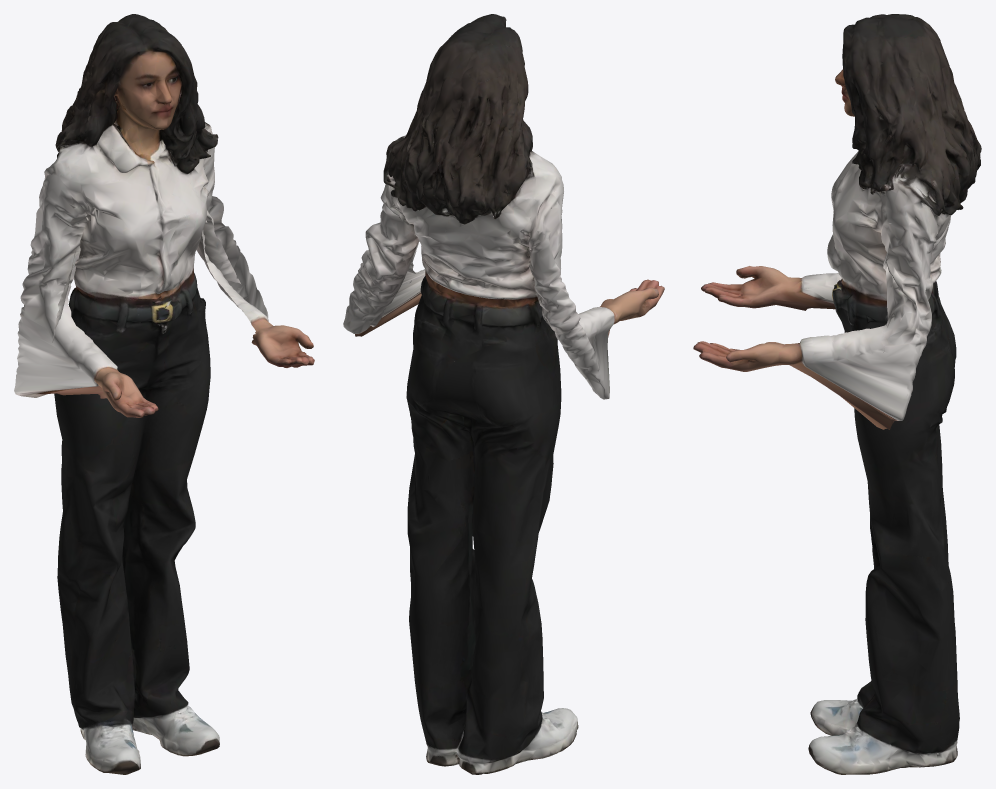
File: recep.glb
The picture shows the model from 3 angles, left to right: view 1: azimuth 30°, elevation 25°; view 2: azimuth 150°, elevation 25°; view 3: azimuth 270°, elevation 25°; orthographic projection. The views are drawn at different scales.
Size of the model in its own units: 0.6155 by 1.63 by 0.5811.
Materials: 1 (1 with a texture image).
